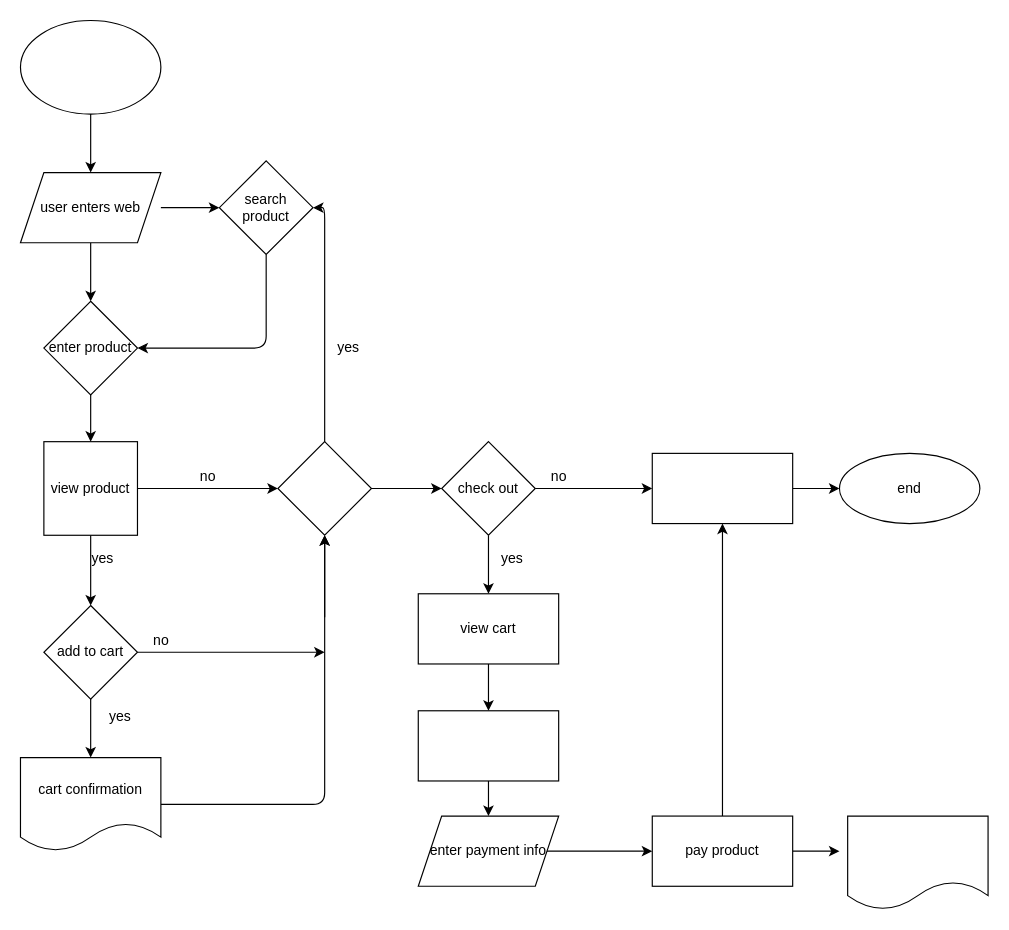
Image size: 1009x930. Some labels were removed from this diagram. Here are the shapes that lost their labels. From the top down, the centre of each, then its label:
At point (90, 66): "start".
At point (324, 488): "continue shopping".
At point (722, 488): "user leave the web".
At point (488, 745): "view payment".
At point (917, 862): "sent email".
